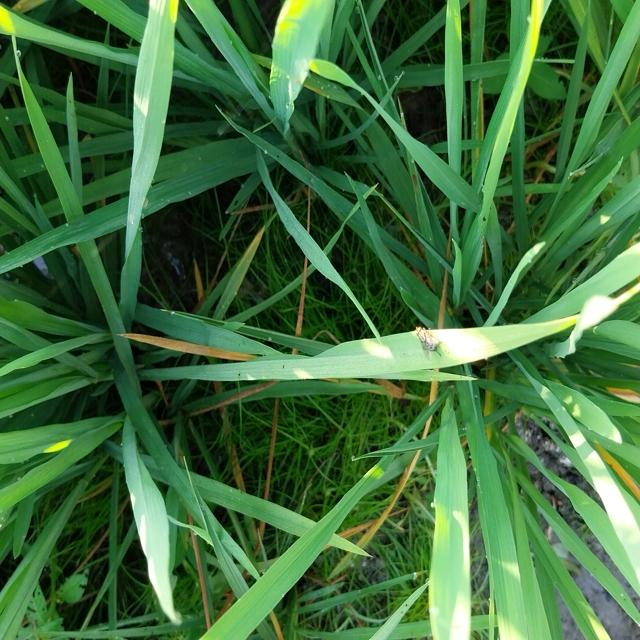Leaf scald: (408, 318, 452, 364)
